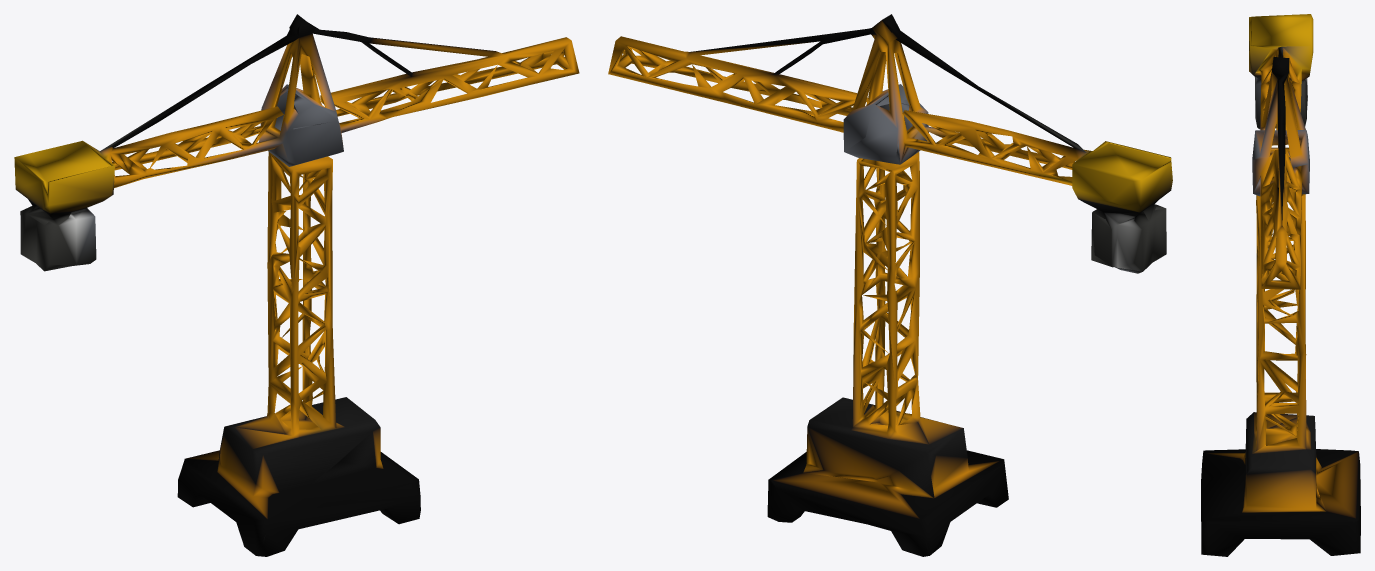
Rendered from gen3d-crane-lod1.glb.
The picture shows the model from 3 angles, left to right: view 1: azimuth 30°, elevation 25°; view 2: azimuth 150°, elevation 25°; view 3: azimuth 270°, elevation 25°; orthographic projection. The views are drawn at different scales.
Visible parts, largest first — view 1: part_0; view 2: part_0; view 3: part_0.
Part boxes in pixels (bbox=[...]): part_0: bbox=[14, 14, 579, 556]; part_0: bbox=[608, 14, 1172, 556]; part_0: bbox=[1201, 14, 1360, 556].
Size of the model in its own units: 1.15 by 0.9994 by 0.3127.
